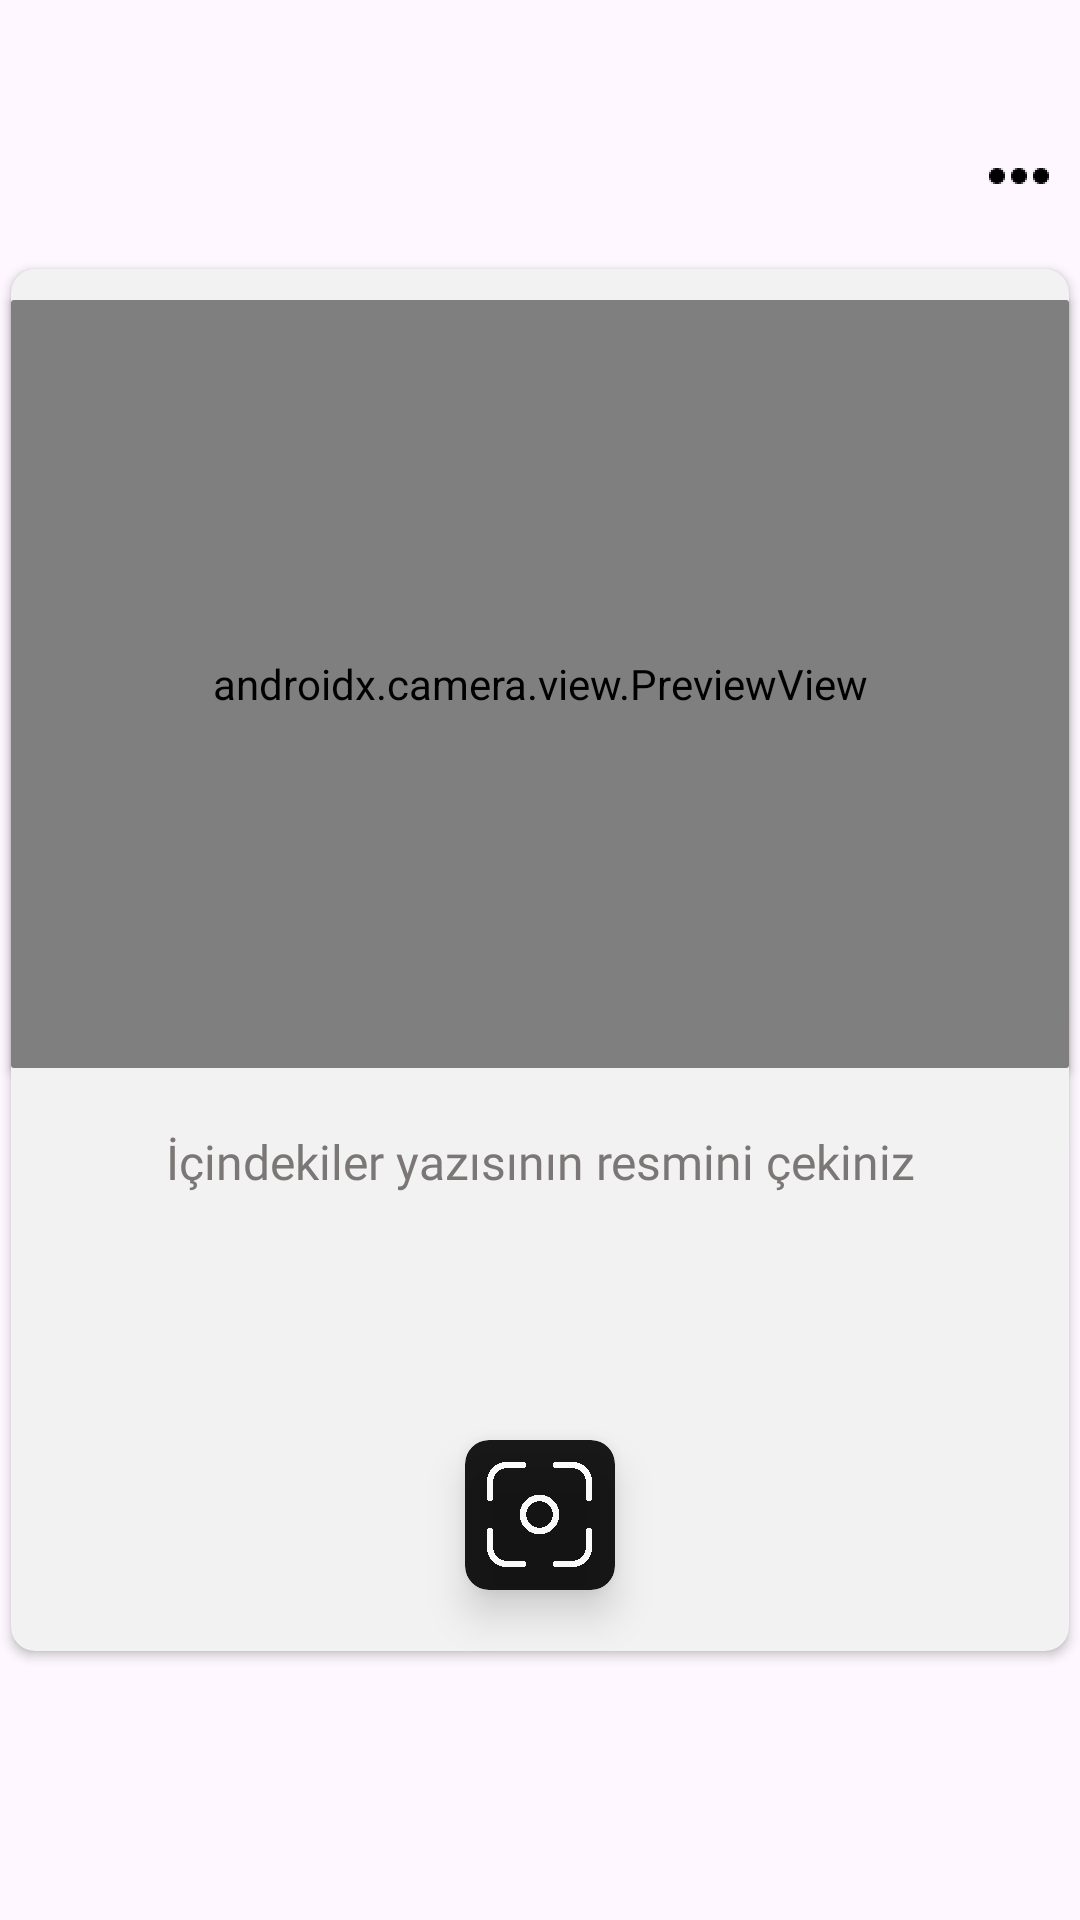

Screen size 1080x1920. Icon name, then its center in pixels as point (x, y):
dots: point (1019, 176)
focus: point (539, 1514)
